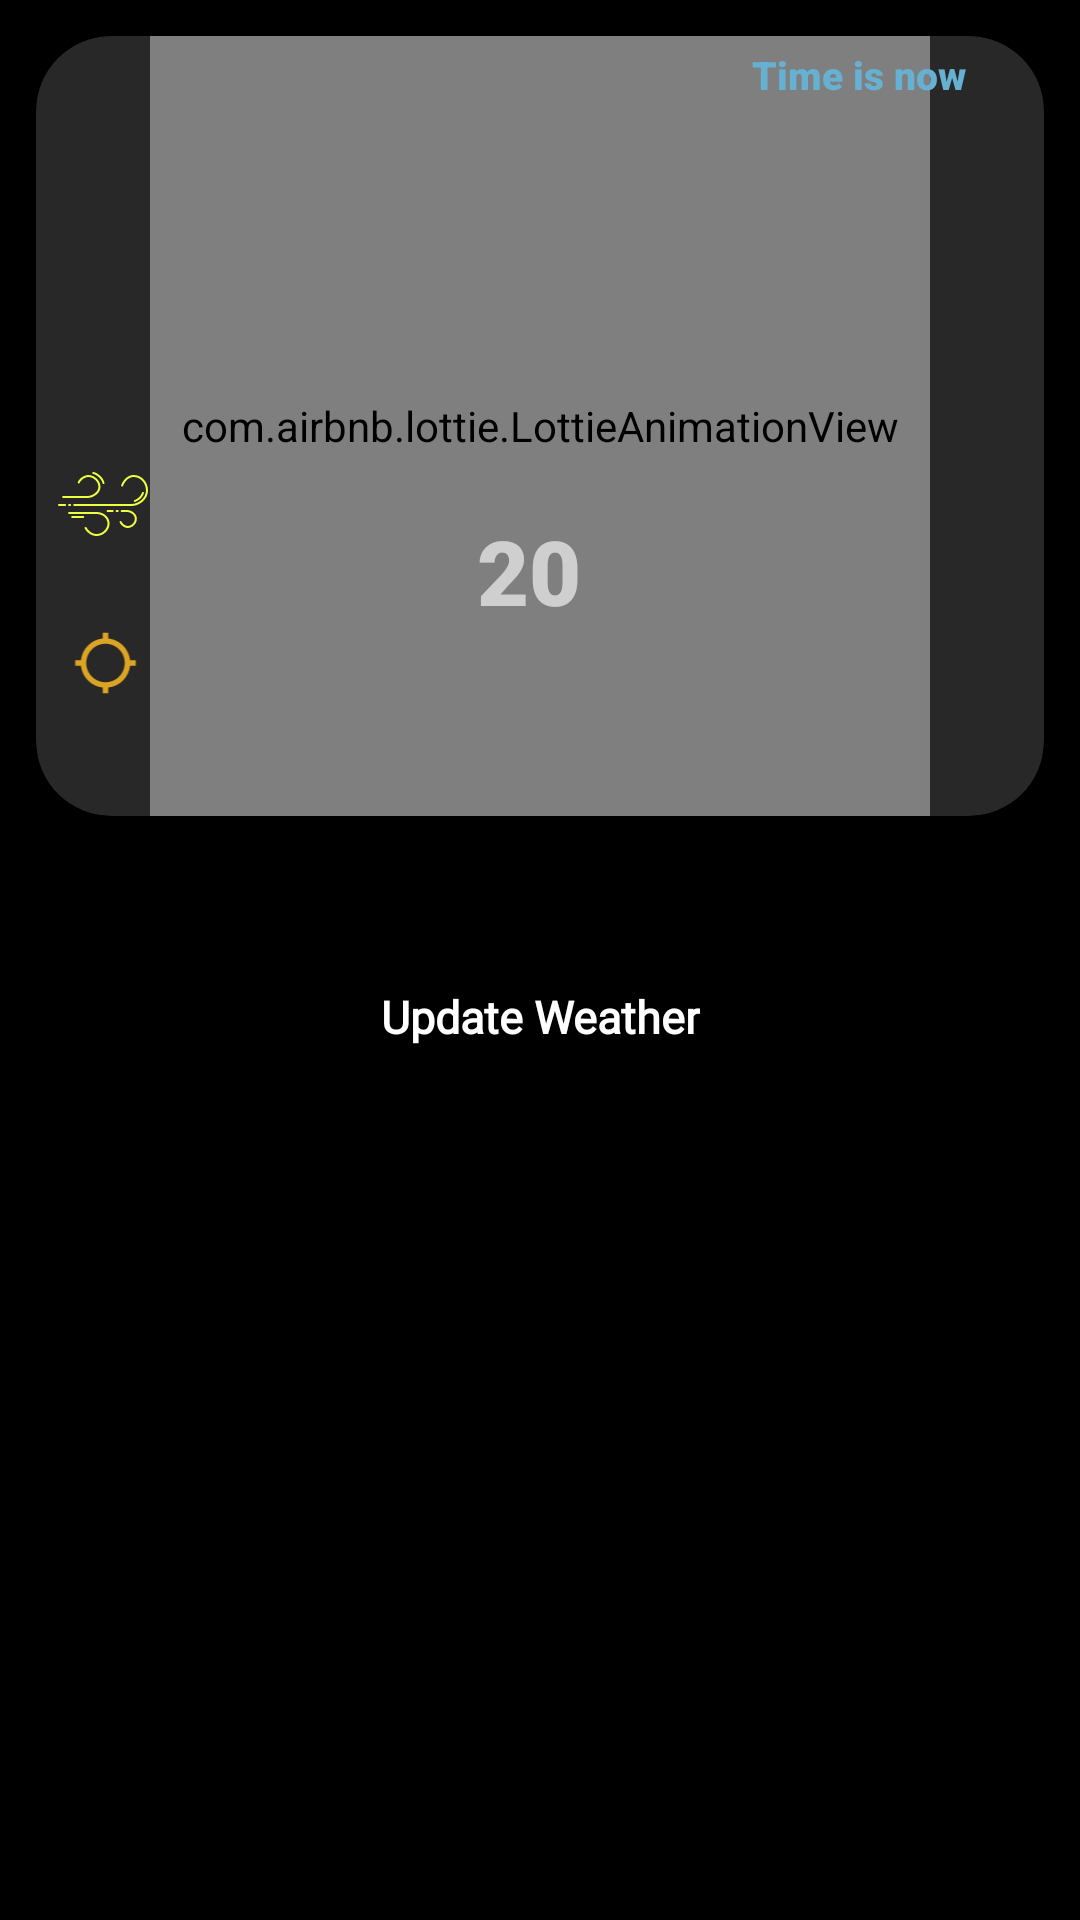

Icon bounding boxes for this 1080 × 1920 phone screenshot, format rect(x1, y1, x2, y2):
wind: rect(58, 472, 148, 536)
